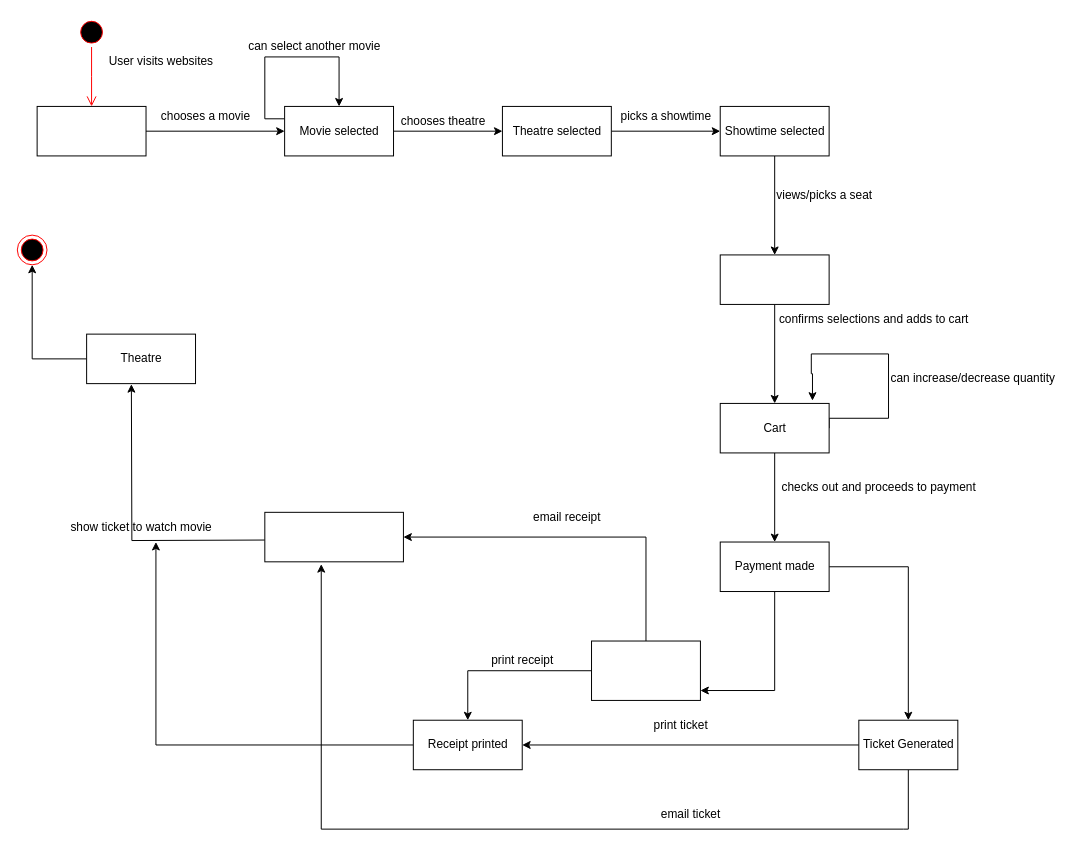
Some shapes in this 1084 by 854 pixel diagram are drawn without their labels. Each missing label, with the centre of its shape:
Explore movies: (x=91, y=130)
Receipt Generated: (x=645, y=670)
Seat selected: (x=774, y=279)
Tickets/receipt emailed: (x=333, y=536)
